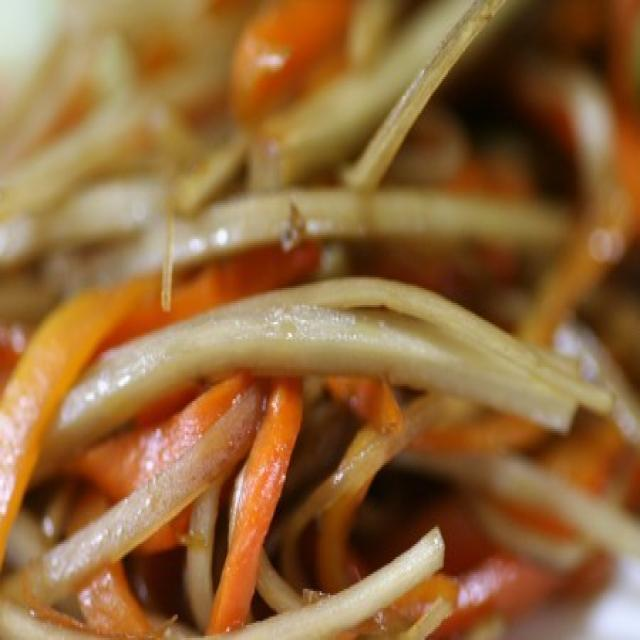蔬菜料理: (10, 15, 619, 625)
